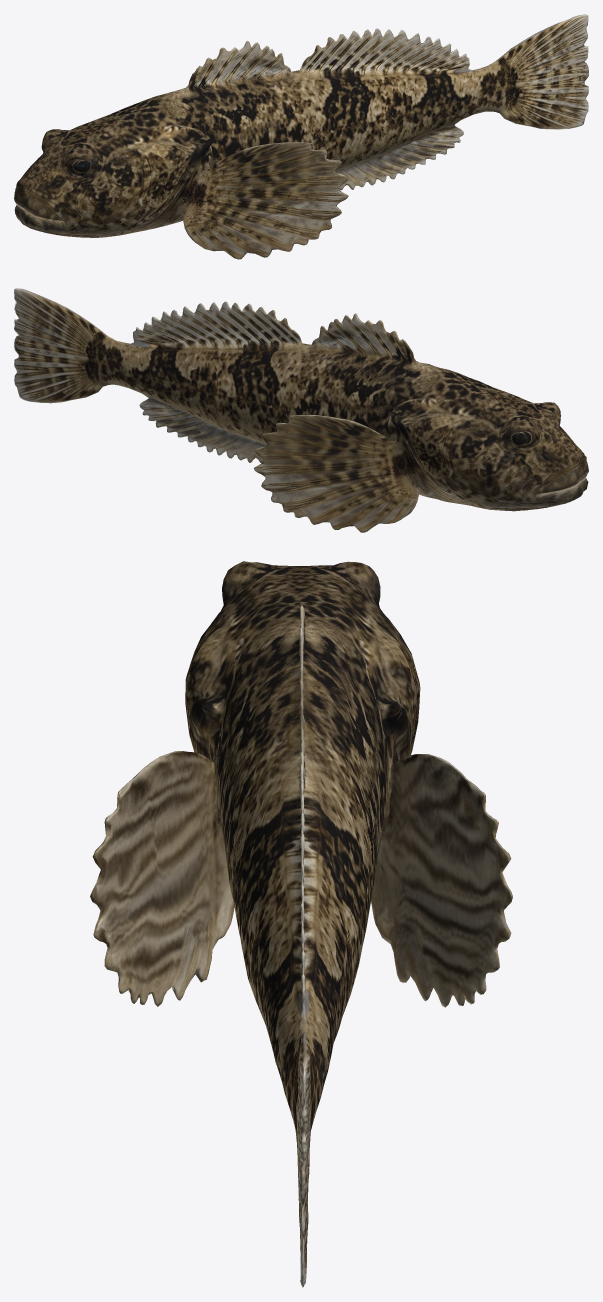
The model's file is meshy_bullhead_texture.glb.
3 renders of one model, top to bottom at view 1: azimuth 30°, elevation 25°; view 2: azimuth 150°, elevation 25°; view 3: azimuth 270°, elevation 25°, orthographic. The views are drawn at different scales.
Size of the model in its own units: 1 by 0.325 by 0.3229.
Materials: 1 (1 with a texture image).
